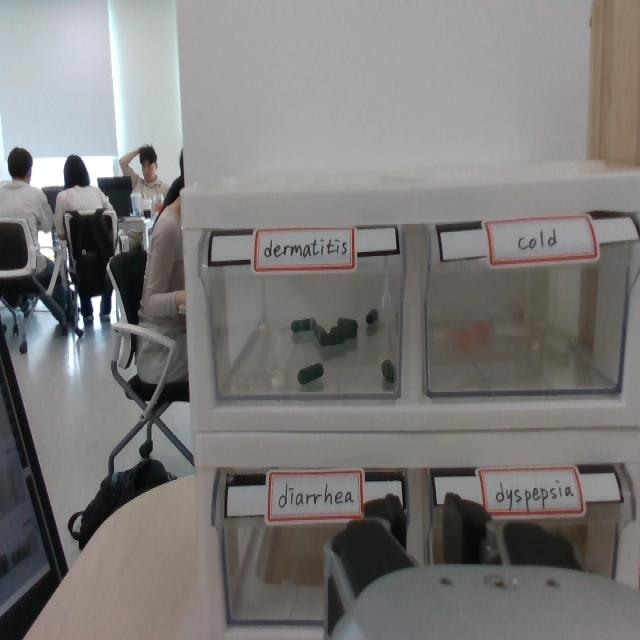text: (277, 477, 357, 510), (494, 477, 577, 505), (262, 234, 348, 258), (515, 225, 564, 253)
